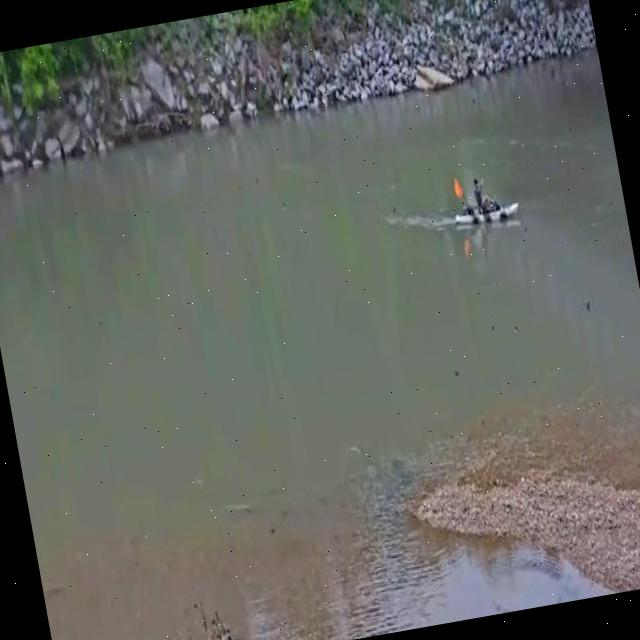kayak: (452, 178, 517, 226)
